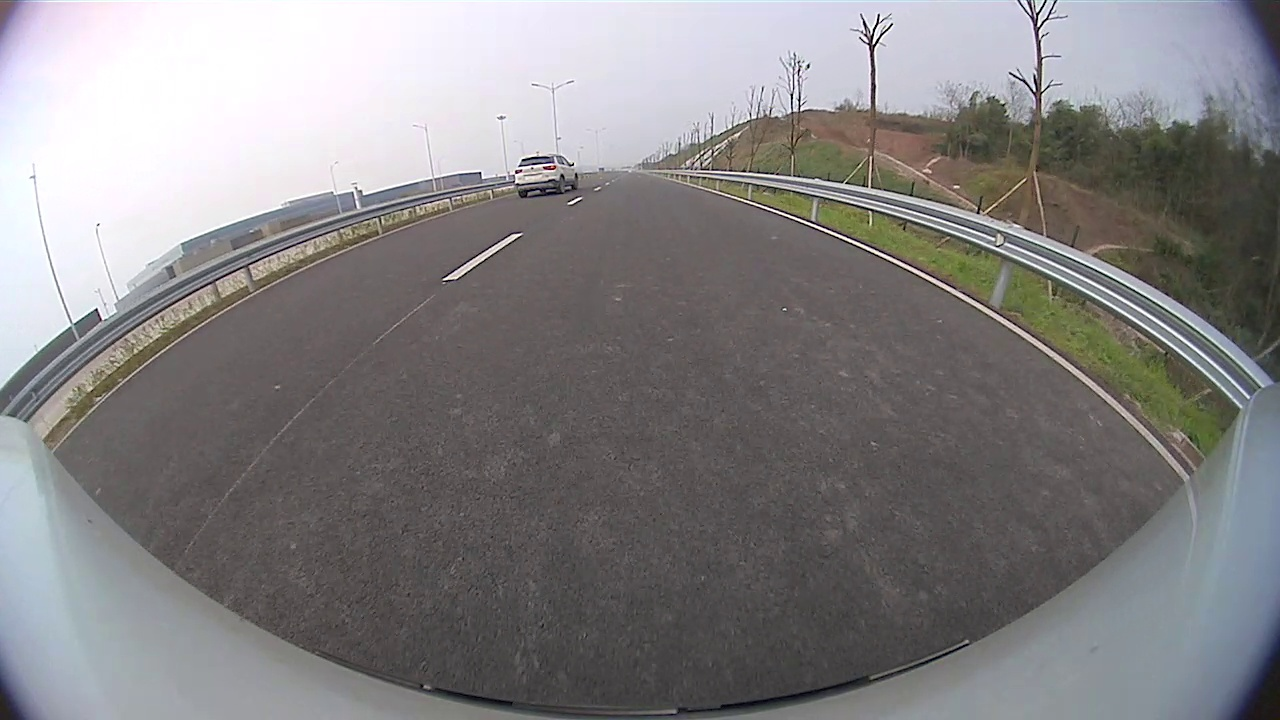car: (513, 152, 580, 199)
rear: (559, 176, 567, 193)
